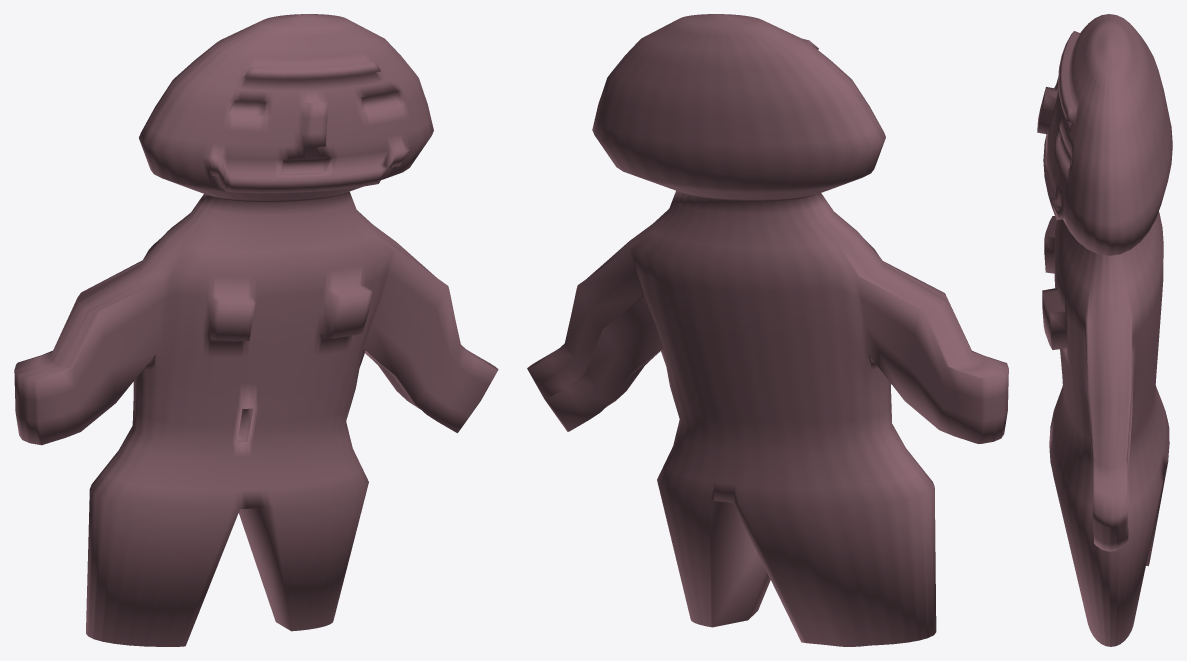
File: dogu_dammy2.glb
3 renders of one model, left to right at view 1: azimuth 30°, elevation 25°; view 2: azimuth 150°, elevation 25°; view 3: azimuth 270°, elevation 25°, orthographic. The views are drawn at different scales.
Parts seen in each view (by area): view 1: 球.001; view 2: 球.001; view 3: 球.001.
Boxes of the visible parts, x1,y1,x2,y2 form: 球.001: [14, 14, 498, 646]; 球.001: [527, 14, 1008, 646]; 球.001: [1037, 14, 1172, 646].
Size of the model in its own units: 2.85 by 3.49 by 0.7255.
